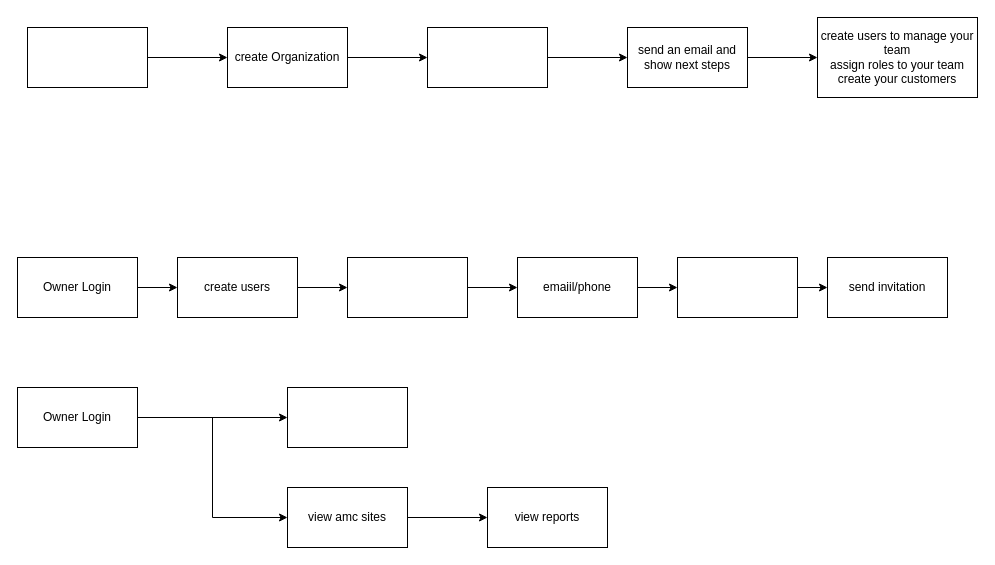
Image size: 995x565. Some labels were removed from this diagram. The shapes that lost their labels are listed below. From the top down, each one's box as (x1, y1, x2, y2) in pixels, then its label:
(26, 26, 148, 88): signup
(426, 26, 548, 88): phone / email verification
(346, 256, 468, 318): add user
(676, 256, 798, 318): role manager
(286, 386, 408, 448): view customers
